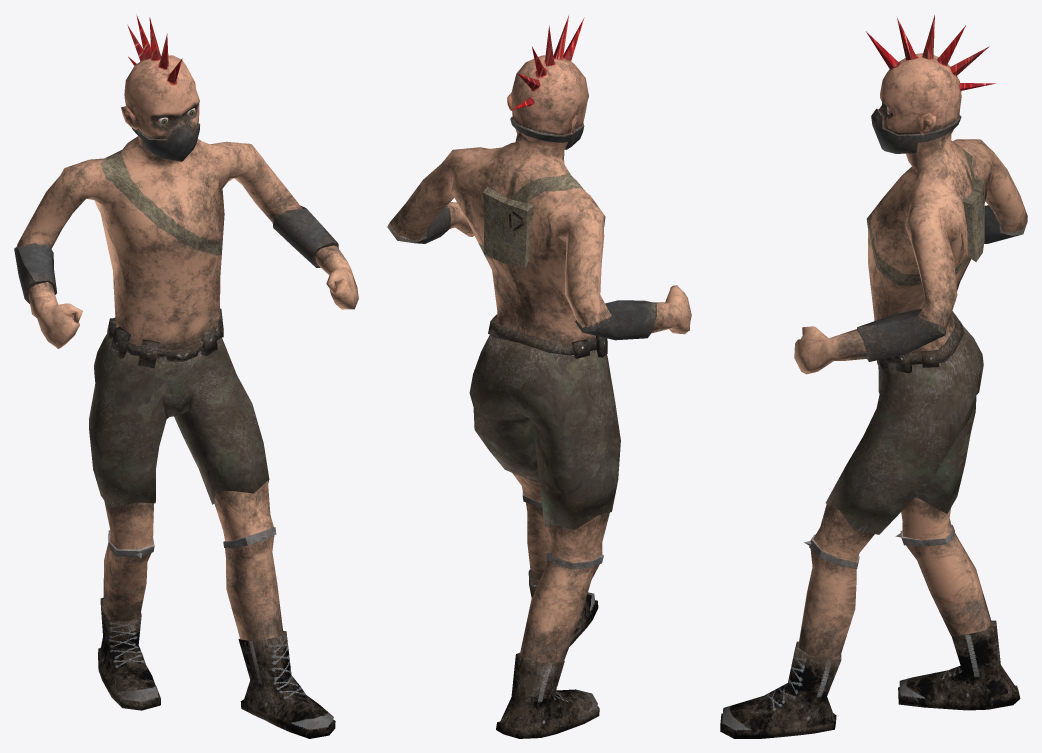
The model's file is Anim_ataque_d1_npc2.0029.obj.
3 renders of one model, left to right at view 1: azimuth 30°, elevation 25°; view 2: azimuth 150°, elevation 25°; view 3: azimuth 270°, elevation 25°, orthographic. The views are drawn at different scales.
Visible parts, largest first — view 1: polySurface1; view 2: polySurface1; view 3: polySurface1.
Part boxes in pixels (x1,y1,x2,y2): polySurface1: [14, 14, 358, 738]; polySurface1: [387, 14, 691, 738]; polySurface1: [720, 15, 1027, 738].
Bounding box in the file's own units: 4.33 × 10 × 4.02.
